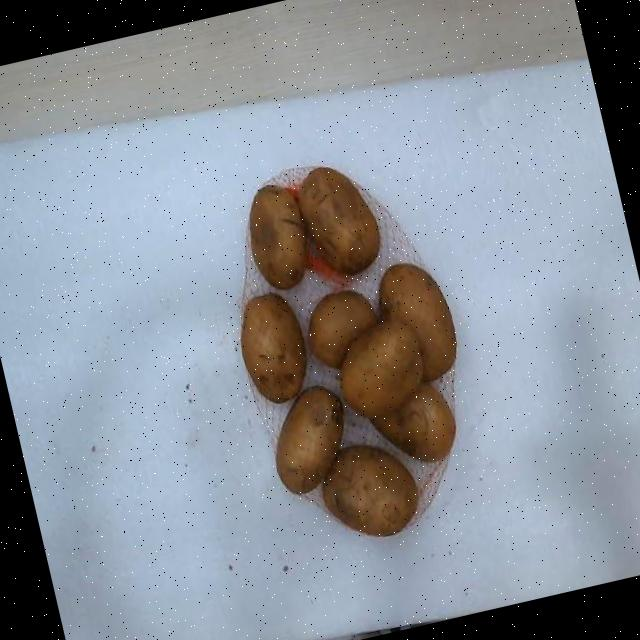potato: (379, 263, 456, 379), (297, 166, 379, 274), (322, 445, 418, 536), (340, 321, 422, 416), (240, 292, 306, 401), (276, 386, 342, 493), (371, 383, 456, 461), (249, 186, 306, 289), (308, 290, 377, 366)
